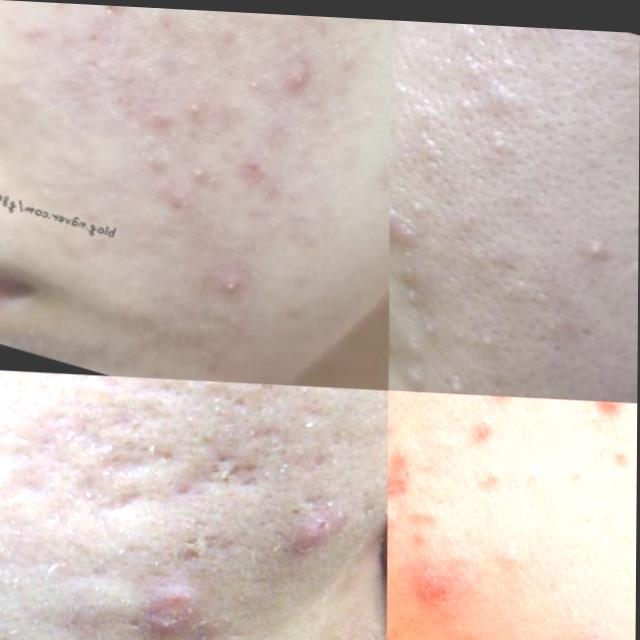8: (388, 531, 487, 622), (389, 429, 435, 515), (269, 45, 321, 102), (392, 628, 464, 640)
9: (564, 212, 620, 272), (394, 303, 454, 351), (466, 315, 513, 368), (440, 361, 489, 390), (568, 619, 620, 640), (585, 394, 626, 420)
blackheads: (119, 556, 230, 640), (100, 432, 176, 491), (279, 499, 338, 575), (189, 450, 263, 505), (242, 409, 306, 462), (390, 190, 434, 254), (28, 372, 82, 392)
dark spot: (609, 432, 637, 474), (522, 455, 550, 486), (437, 400, 463, 421)
